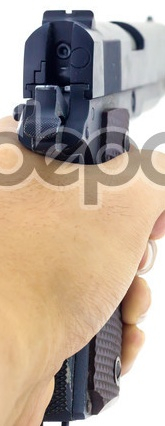pistol: (9, 1, 165, 425)
